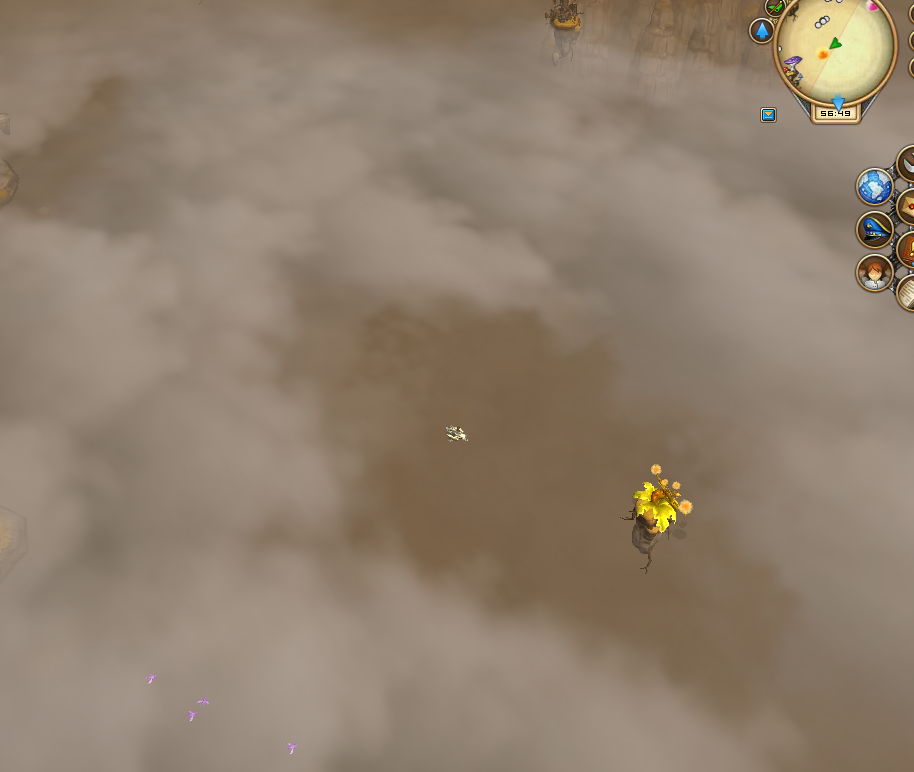dandelion-full: (621, 455, 696, 567)
